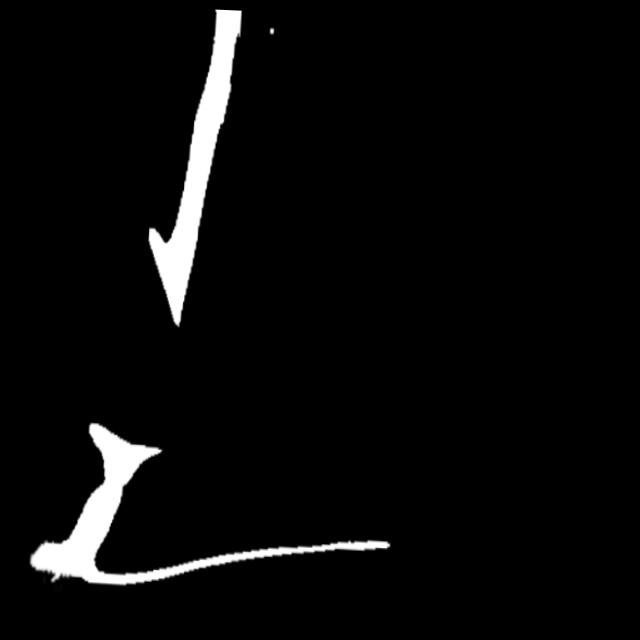sup_pli: (50, 563, 69, 588)
